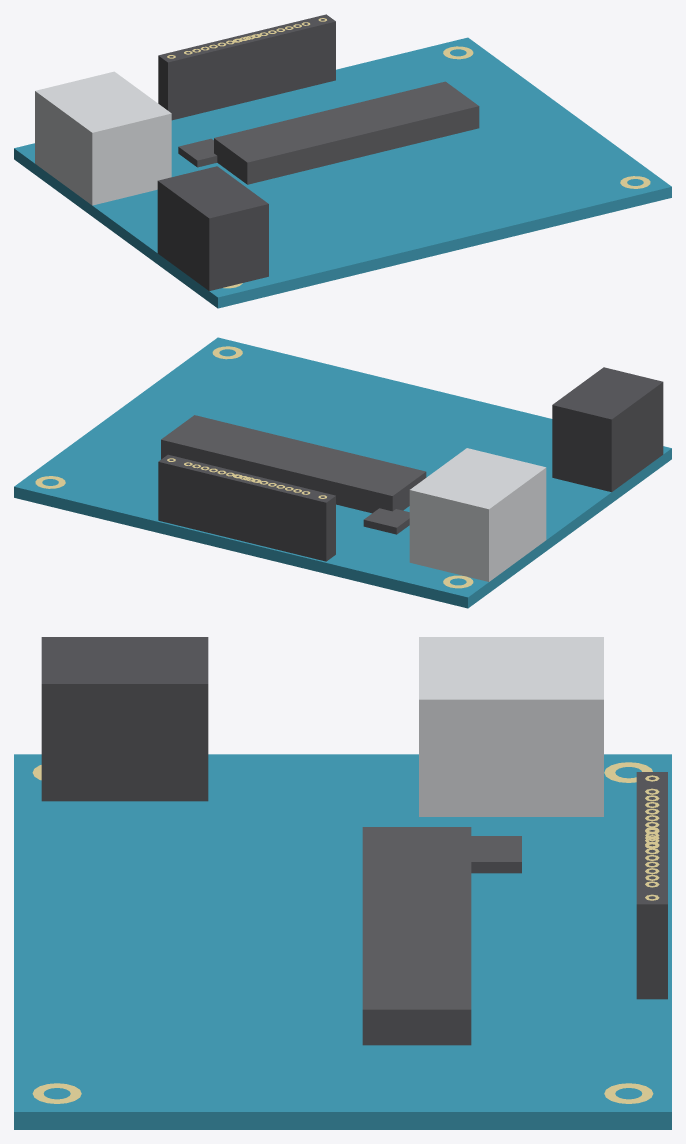
File: arduino-uno-r4-wifi.glb
3 renders of one model, top to bottom at view 1: azimuth 30°, elevation 25°; view 2: azimuth 150°, elevation 25°; view 3: azimuth 270°, elevation 25°, orthographic. The views are drawn at different scales.
Parts seen in each view (by area): view 1: arduino-uno-r4-wifi-pcb, arduino-uno-r4-wifi-plastic, arduino-uno-r4-wifi-ic, arduino-uno-r4-wifi-metal, arduino-uno-r4-wifi-mounting-pads, arduino-uno-r4-wifi-pins; view 2: arduino-uno-r4-wifi-pcb, arduino-uno-r4-wifi-plastic, arduino-uno-r4-wifi-metal, arduino-uno-r4-wifi-ic, arduino-uno-r4-wifi-mounting-pads, arduino-uno-r4-wifi-pins; view 3: arduino-uno-r4-wifi-pcb, arduino-uno-r4-wifi-plastic, arduino-uno-r4-wifi-metal, arduino-uno-r4-wifi-ic, arduino-uno-r4-wifi-mounting-pads, arduino-uno-r4-wifi-pins.
Part boxes in pixels (<box>): arduino-uno-r4-wifi-pcb: <box>14,37,671,308</box>; arduino-uno-r4-wifi-plastic: <box>157,14,335,290</box>; arduino-uno-r4-wifi-ic: <box>178,81,479,184</box>; arduino-uno-r4-wifi-metal: <box>35,71,171,205</box>; arduino-uno-r4-wifi-mounting-pads: <box>223,46,650,288</box>; arduino-uno-r4-wifi-pins: <box>167,18,326,58</box>; arduino-uno-r4-wifi-pcb: <box>14,337,671,608</box>; arduino-uno-r4-wifi-plastic: <box>158,367,663,561</box>; arduino-uno-r4-wifi-metal: <box>409,448,546,581</box>; arduino-uno-r4-wifi-ic: <box>161,415,426,534</box>; arduino-uno-r4-wifi-mounting-pads: <box>35,346,473,588</box>; arduino-uno-r4-wifi-pins: <box>167,458,326,498</box>; arduino-uno-r4-wifi-pcb: <box>14,754,671,1129</box>; arduino-uno-r4-wifi-plastic: <box>41,637,667,999</box>; arduino-uno-r4-wifi-metal: <box>419,637,603,816</box>; arduino-uno-r4-wifi-ic: <box>362,827,521,1045</box>; arduino-uno-r4-wifi-mounting-pads: <box>32,762,653,1103</box>; arduino-uno-r4-wifi-pins: <box>645,775,659,900</box>.
Bounding box in the file's own units: 0.0686 × 0.0121 × 0.0533.
